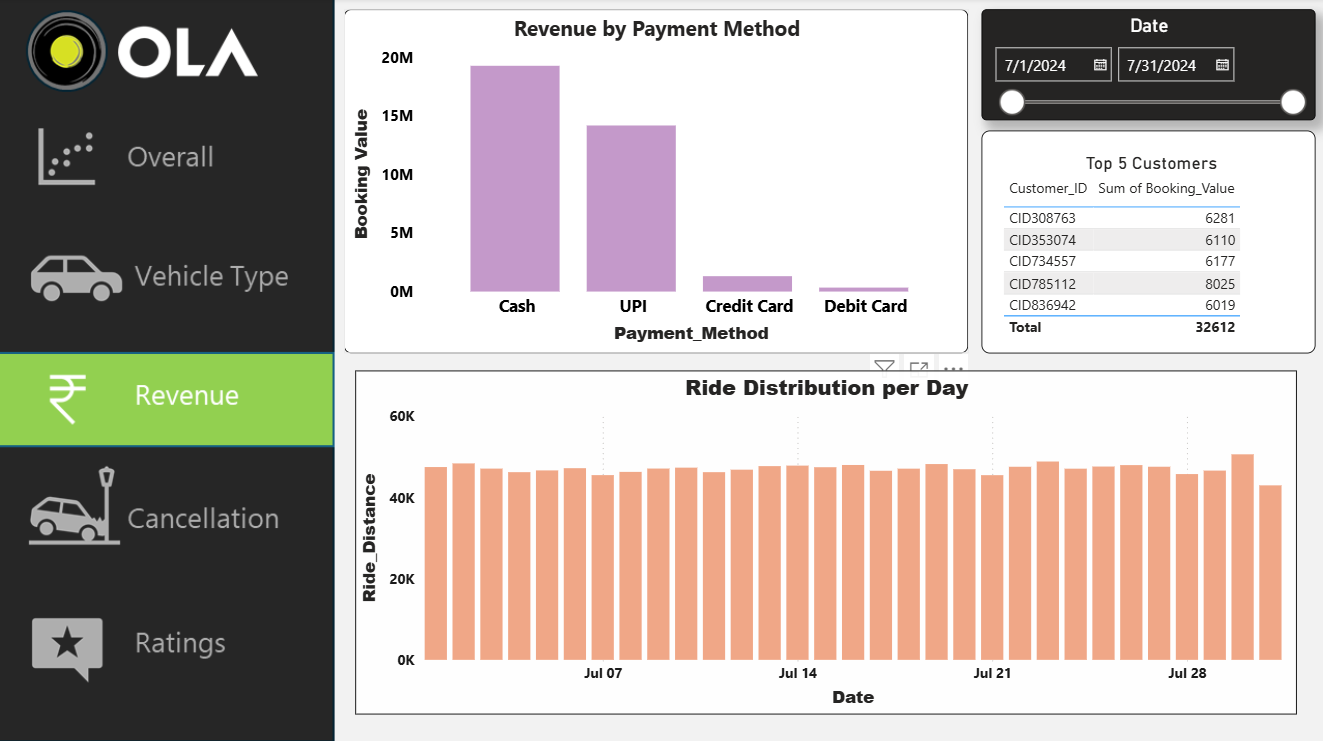

Layout of this report page (visuals, bound fields, positions):
{"tool":"powerbi","page":{"name":"Revenue","canvas":[1280,720],"ordinal":2},"visuals":[{"type":"actionButton","box":[0,111,323.3,90.5],"z":0},{"type":"actionButton","box":[0,228,323.3,90.5],"z":1},{"type":"actionButton","box":[0,445.2,323.3,90.5],"z":2},{"type":"actionButton","box":[0,577.9,323.3,90.5],"z":3},{"type":"columnChart","title":"Revenue by Payment Method","fields":{"Y":["Sum(July.Booking_Value)"],"Category":["July.Payment_Method"]},"box":[333.4,11,602.4,332.1],"z":4},{"type":"columnChart","title":"Ride Distribution per Day","fields":{"Y":["Sum(July.Ride_Distance)"],"Category":["July.Date"]},"box":[344.4,359.5,908.4,332.1],"z":5},{"type":"slicer","title":"Date","fields":{"Values":["July.Date"]},"box":[948.2,11,322.5,107],"z":6},{"type":"tableEx","title":"Top 5 Customers","fields":{"Values":["July.Customer_ID","Sum(July.Booking_Value)"]},"box":[948.2,127.6,322.5,215.4],"z":7}]}

Visuals, with their boxes on the page's 1280x720 design canvas (x1, y1, x2, y2). These are canvas units, not pixel positions in the 1323x741 screenshot, which may show the page scaled, cropped or inside an application window:
actionButton: Rect(0, 111, 323, 202)
actionButton: Rect(0, 228, 323, 318)
actionButton: Rect(0, 445, 323, 536)
actionButton: Rect(0, 578, 323, 668)
"Revenue by Payment Method" columnChart: Rect(333, 11, 936, 343)
"Ride Distribution per Day" columnChart: Rect(344, 360, 1253, 692)
"Date" slicer: Rect(948, 11, 1271, 118)
"Top 5 Customers" tableEx: Rect(948, 128, 1271, 343)
